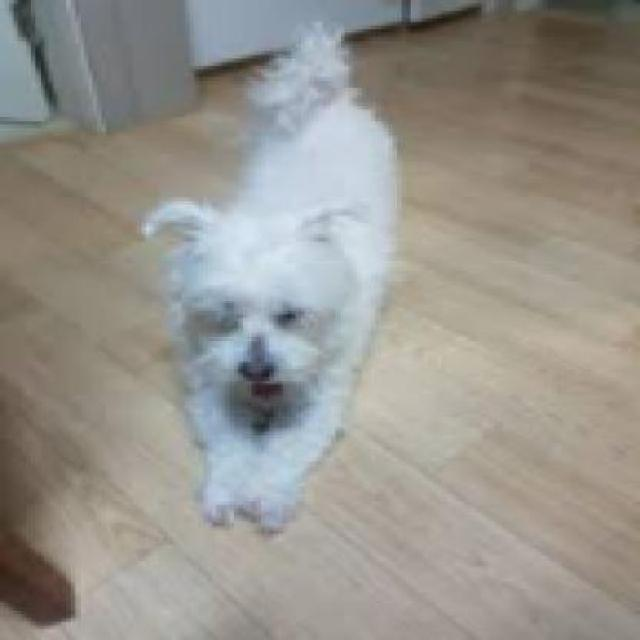Dog: (135, 18, 403, 540)
